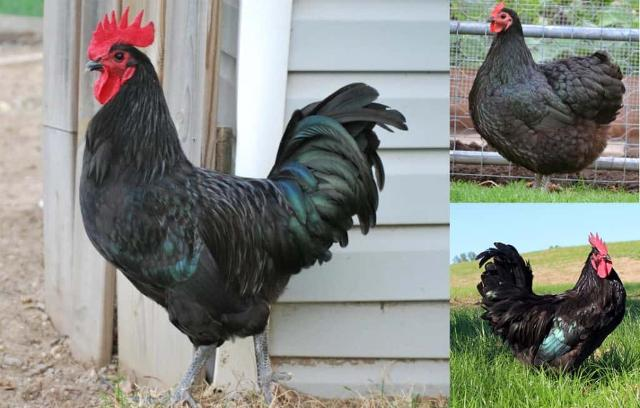Chicken: (78, 8, 408, 408), (470, 1, 626, 191), (473, 231, 628, 387)
